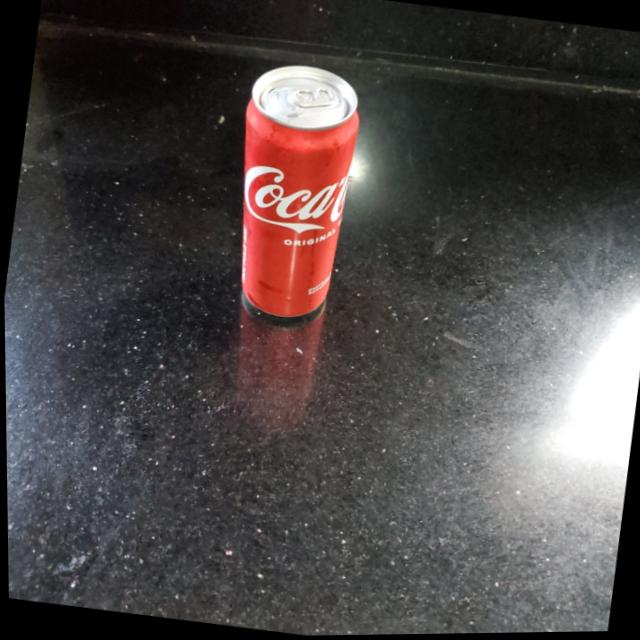coke: (222, 60, 372, 324)
